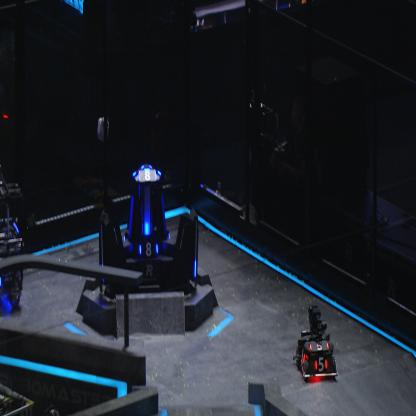car: (292, 304, 338, 382), (0, 178, 25, 310), (0, 381, 35, 416)
